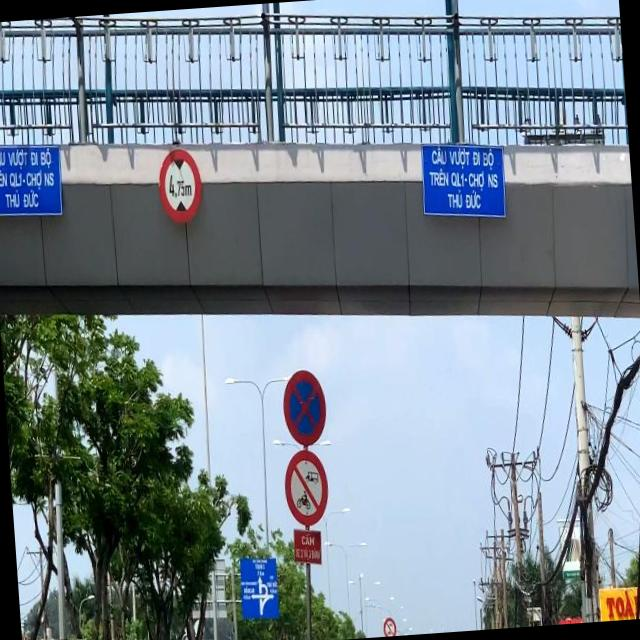P-104: (282, 448, 328, 526)
P-117: (156, 147, 202, 222)
P-130: (280, 369, 328, 448)
